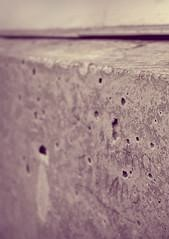Spalling: (1, 66, 169, 181)
